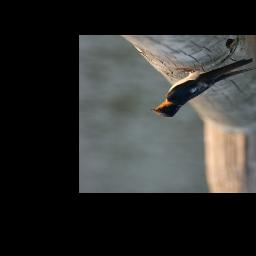Swallow: (146, 57, 256, 120)
